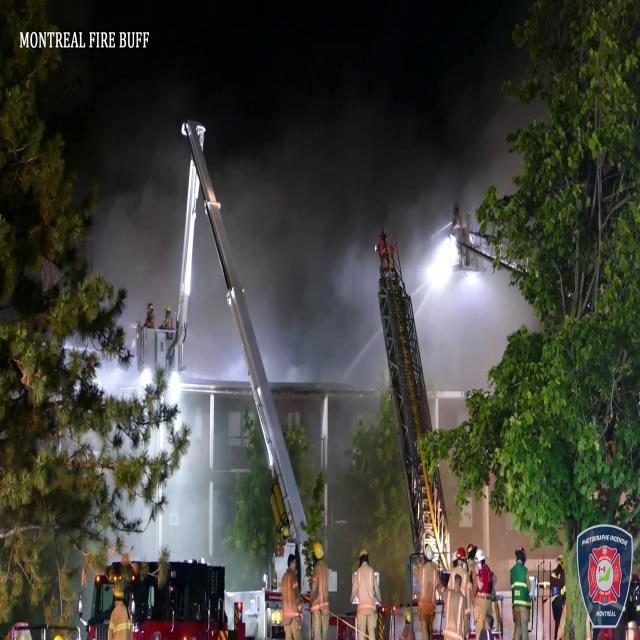Smoke: (77, 1, 507, 502)
